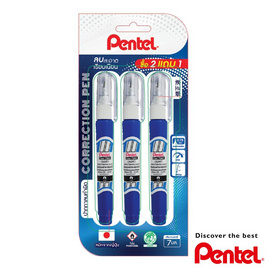Correction_fluid: (145, 70, 173, 227), (94, 68, 121, 226), (120, 72, 147, 225)
